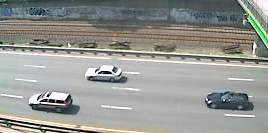car: (27, 89, 74, 114), (203, 89, 253, 111), (83, 63, 126, 85)
